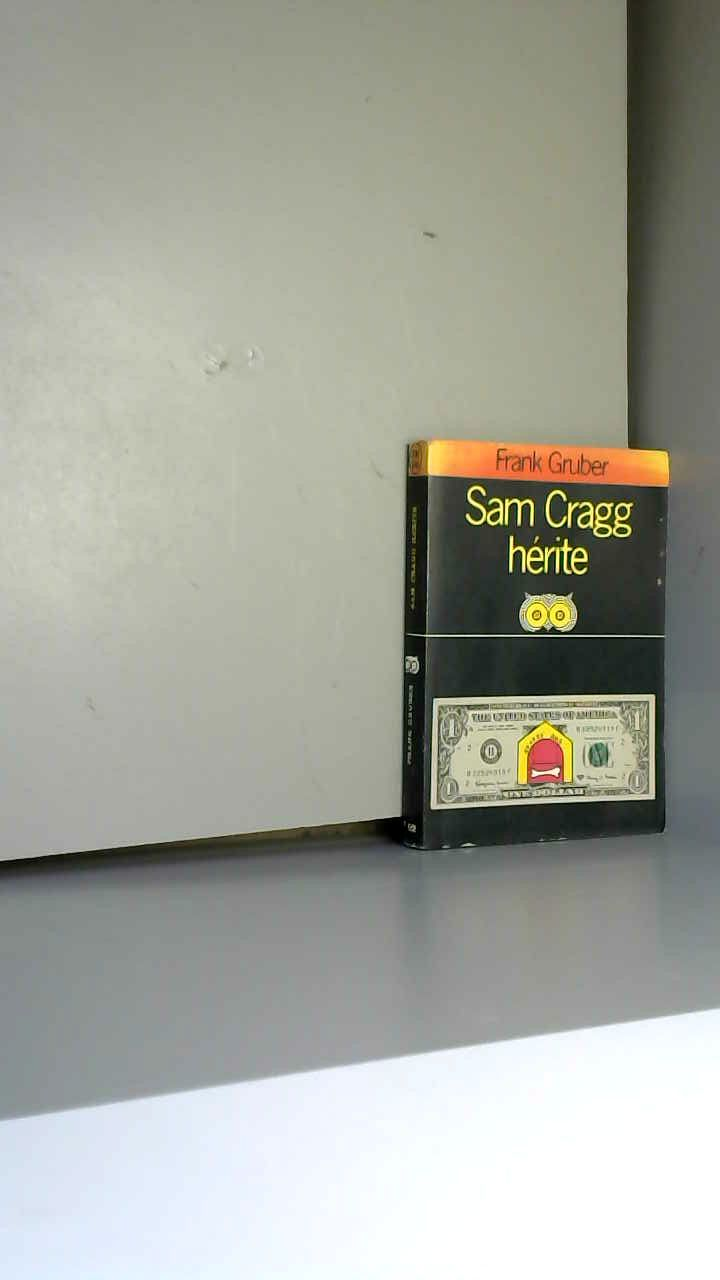book: (380, 410, 720, 872)
